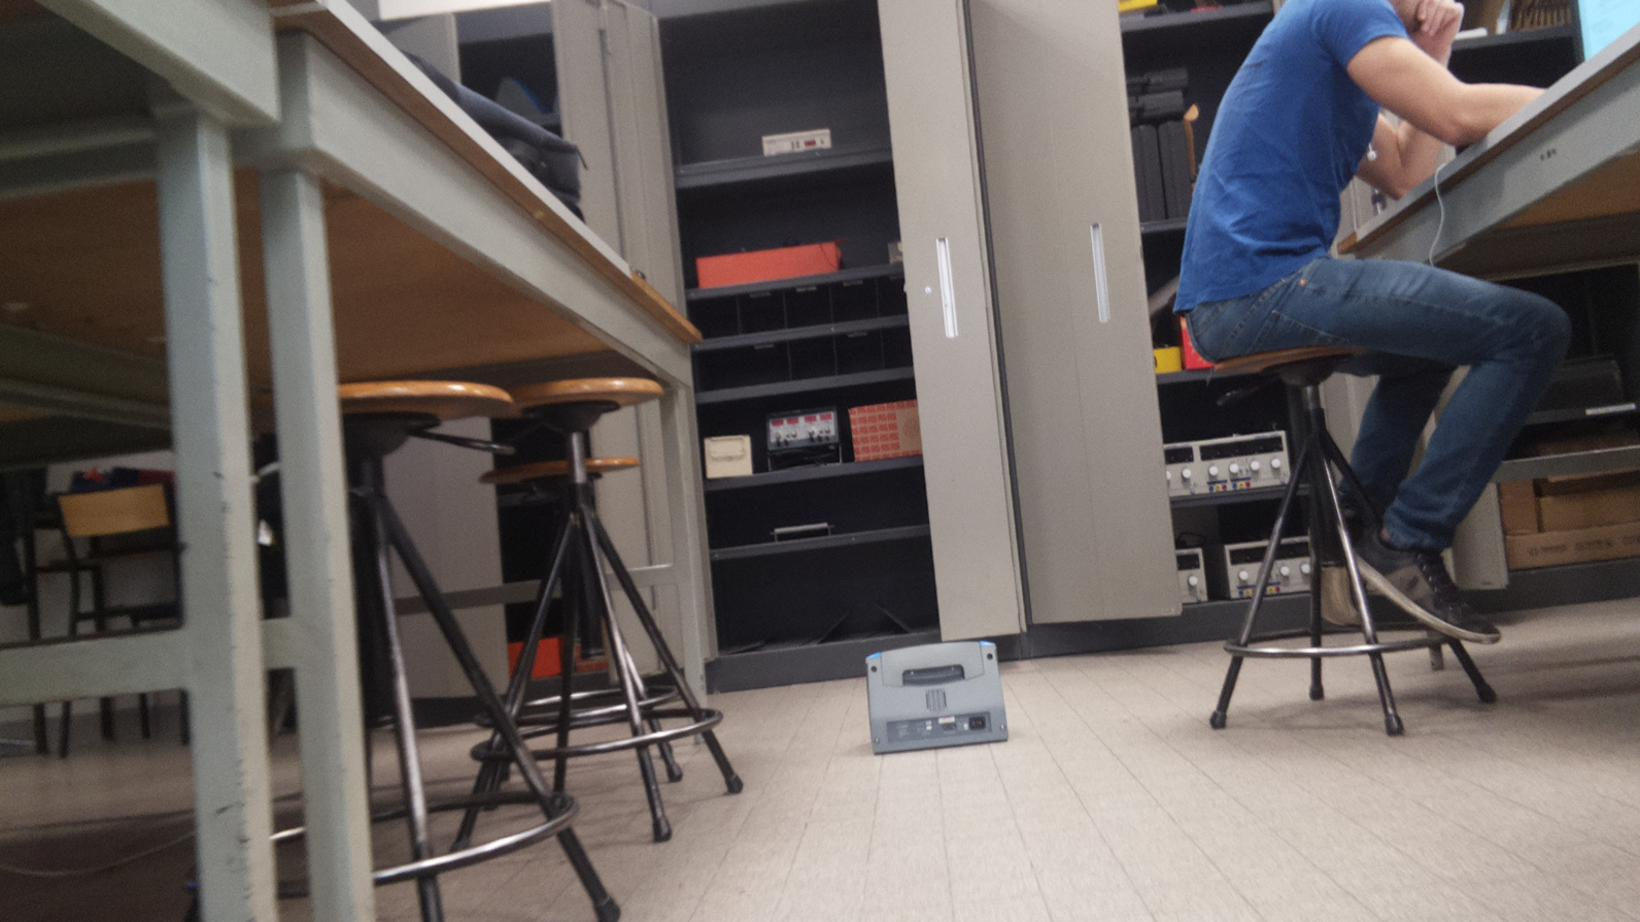medium: (867, 639, 1008, 745)
